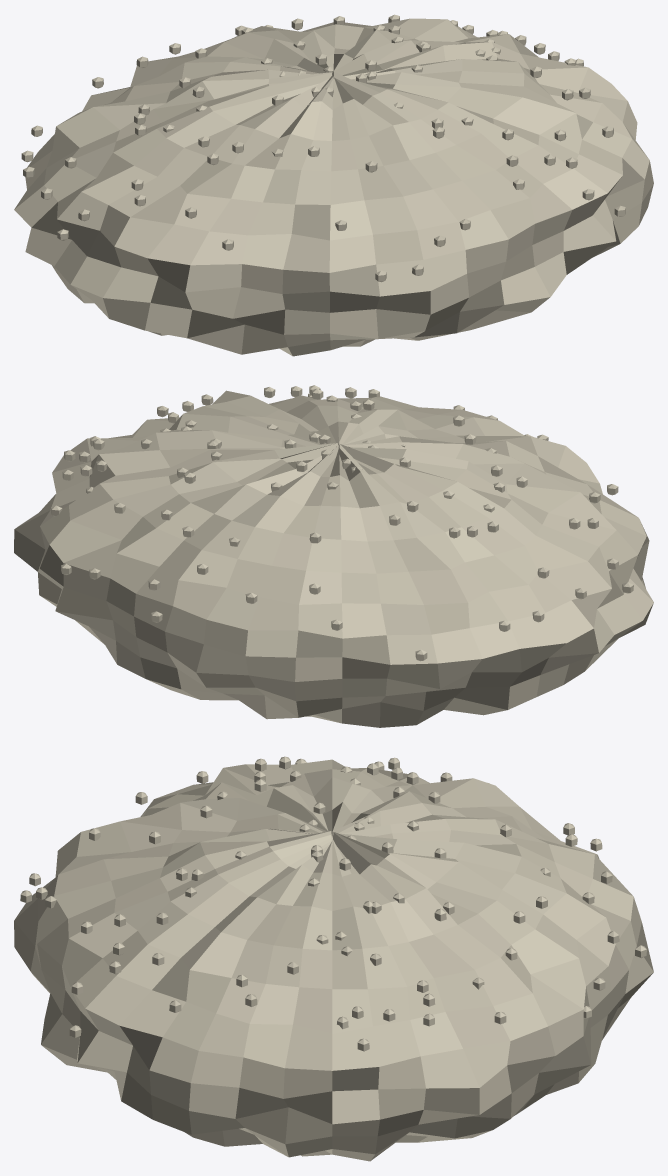
Rendered from AgarAgar.glb.
3 renders of one model, top to bottom at view 1: azimuth 30°, elevation 25°; view 2: azimuth 150°, elevation 25°; view 3: azimuth 270°, elevation 25°, orthographic. The views are drawn at different scales.
Visible parts, largest first — view 1: AgarAgar; view 2: AgarAgar; view 3: AgarAgar.
Boxes of the visible parts, bbox=[...] form: AgarAgar: bbox=[14, 14, 653, 356]; AgarAgar: bbox=[14, 385, 653, 727]; AgarAgar: bbox=[14, 756, 653, 1161].
Size of what is drawn, in the model's own units: 0.0718 by 0.0279 by 0.0631.
